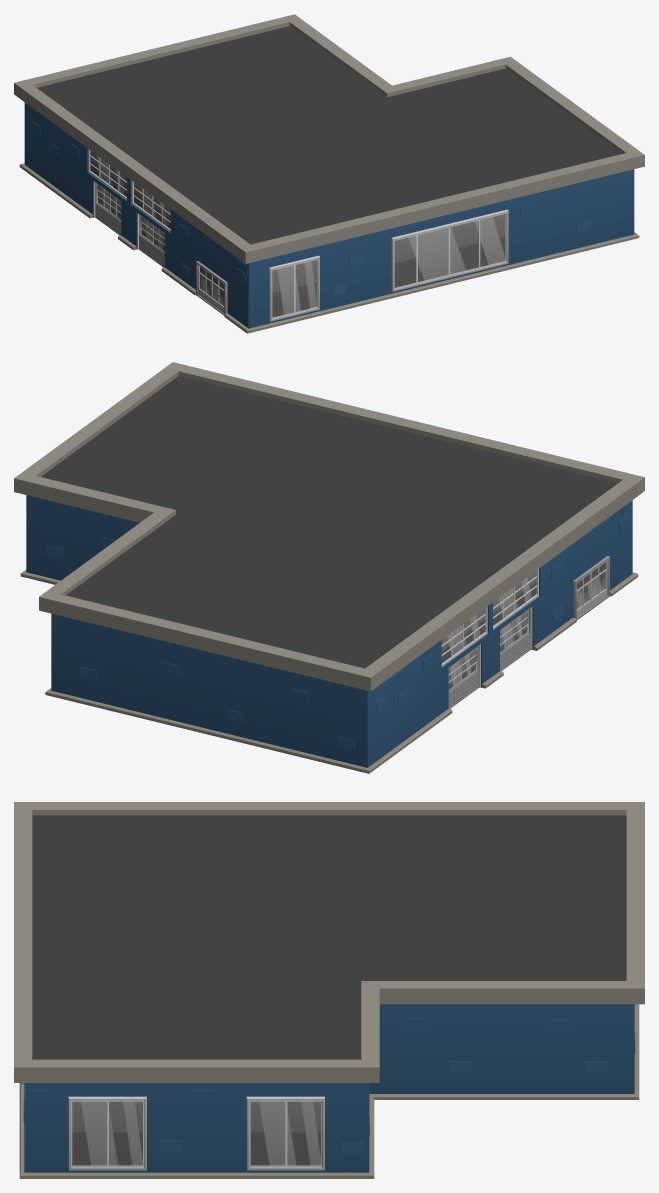
The model's file is Building_22_2_H.fbx.
The picture shows the model from 3 angles, top to bottom: view 1: azimuth 30°, elevation 25°; view 2: azimuth 150°, elevation 25°; view 3: azimuth 270°, elevation 25°; orthographic projection. The views are drawn at different scales.
Visible parts, largest first — view 1: Building_22_2_H; view 2: Building_22_2_H; view 3: Building_22_2_H.
Boxes of the visible parts, bbox=[...] form: Building_22_2_H: bbox=[14, 14, 644, 333]; Building_22_2_H: bbox=[14, 362, 644, 773]; Building_22_2_H: bbox=[14, 802, 644, 1178].
Bounding box in the file's own units: 3108 × 622 × 3125.
